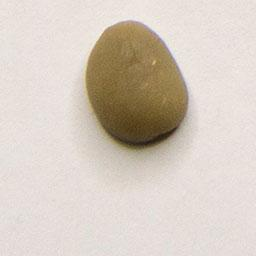premium: (83, 17, 193, 148)
